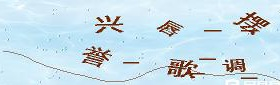chinese: (234, 12, 270, 37), (166, 55, 201, 80), (221, 57, 254, 79), (81, 47, 112, 70), (95, 14, 121, 38), (160, 15, 183, 39)
